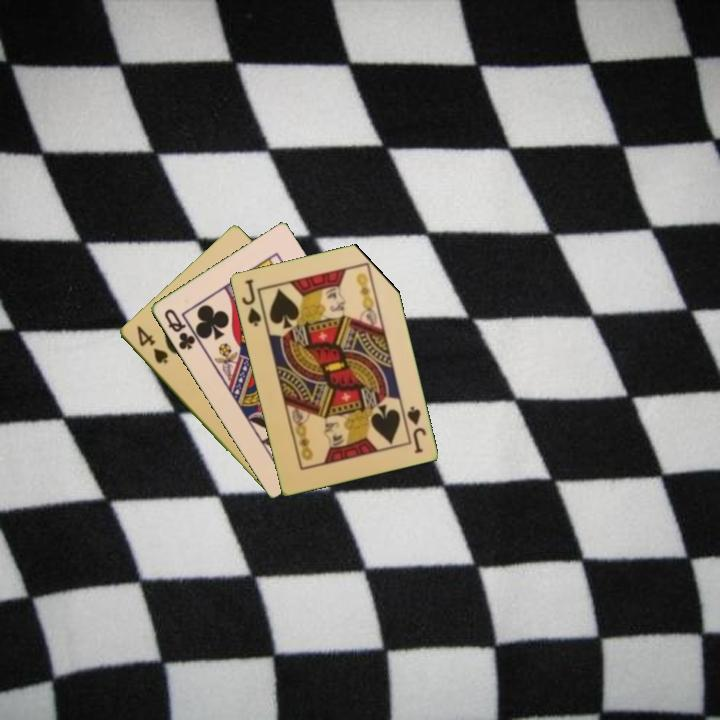4s: (133, 322, 171, 367)
Js: (399, 402, 429, 456), (238, 275, 264, 329)
Qc: (160, 305, 198, 353)
